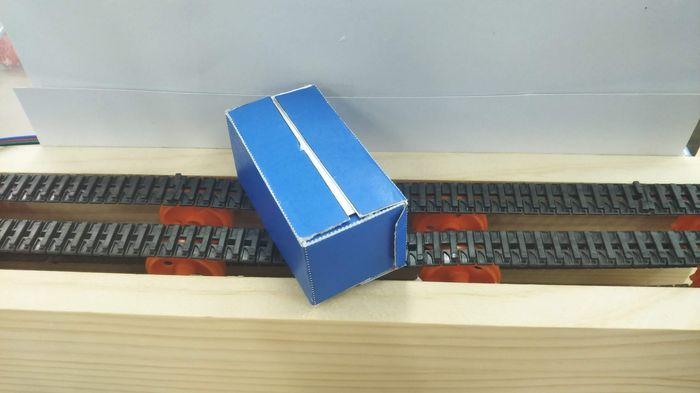box3: (221, 83, 411, 307)
